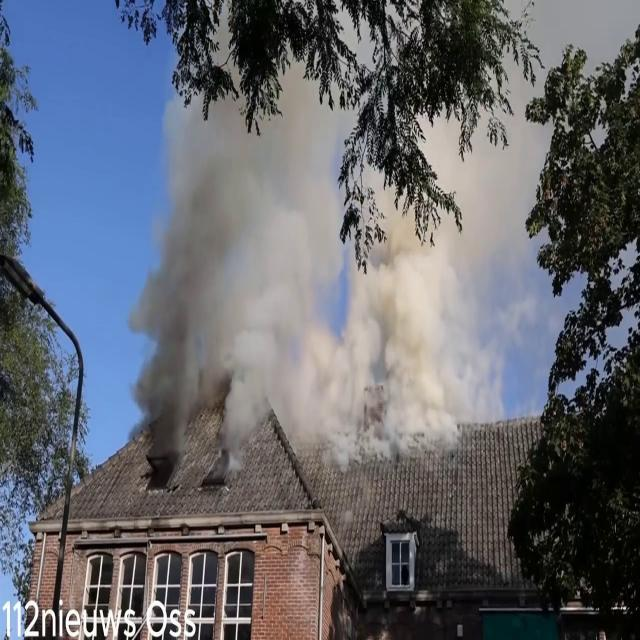Smoke: (125, 52, 538, 479)
